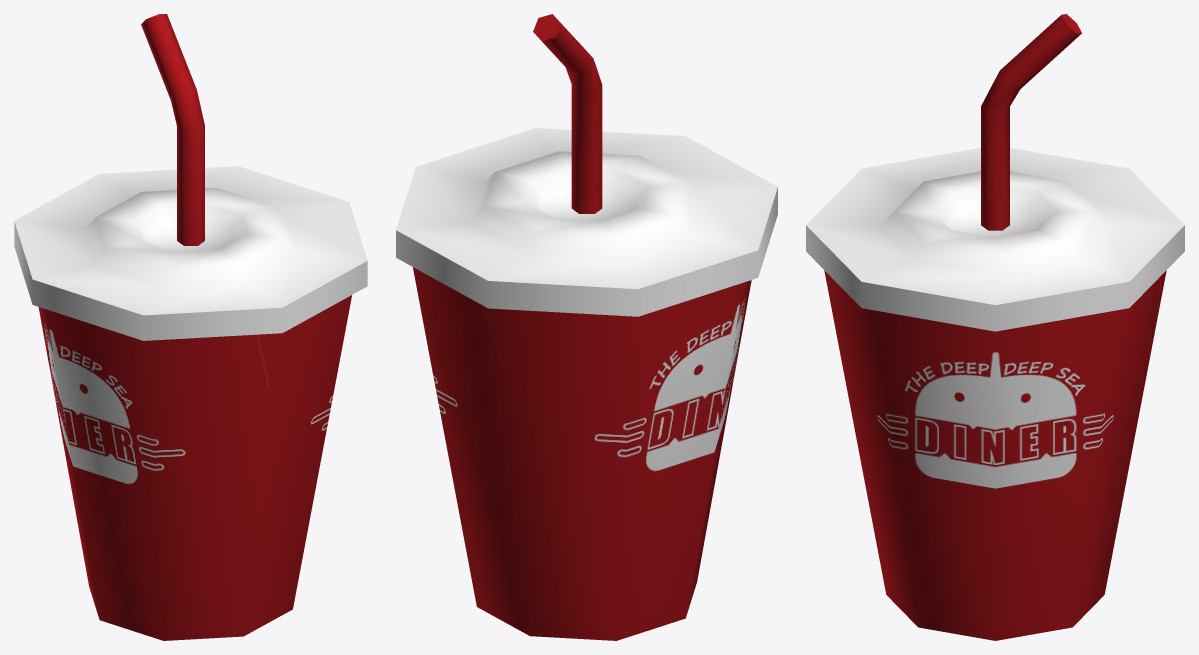
The model's file is redcup.fbx.
The picture shows the model from 3 angles, left to right: view 1: azimuth 30°, elevation 25°; view 2: azimuth 150°, elevation 25°; view 3: azimuth 270°, elevation 25°; orthographic projection. The views are drawn at different scales.
Visible parts, largest first — view 1: Cylinder; view 2: Cylinder; view 3: Cylinder.
Part boxes in pixels (<box>): Cylinder: <box>14,14,367,640</box>; Cylinder: <box>396,14,777,640</box>; Cylinder: <box>806,14,1184,640</box>.
Bounding box in the file's own units: 260 × 439 × 260.
